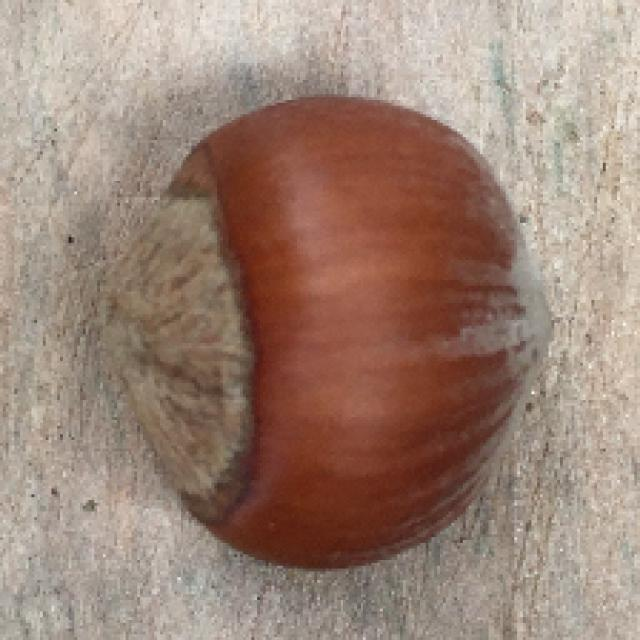qualityHazelnut: (104, 91, 556, 573)
